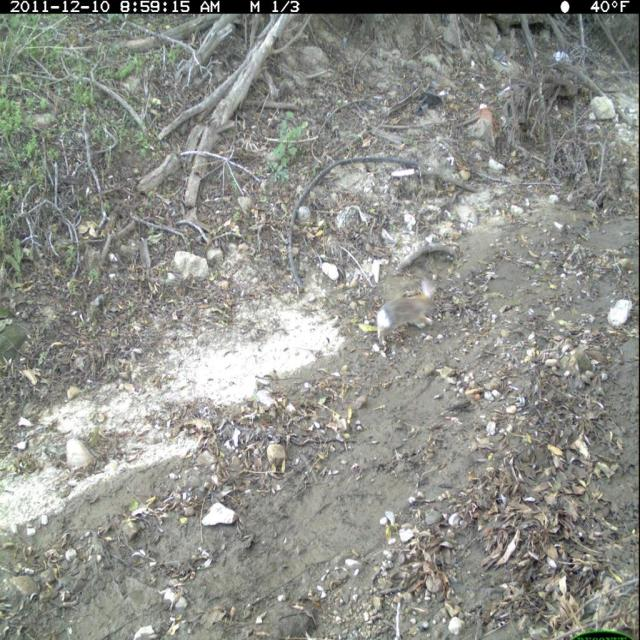rabbit: (358, 261, 469, 360)
